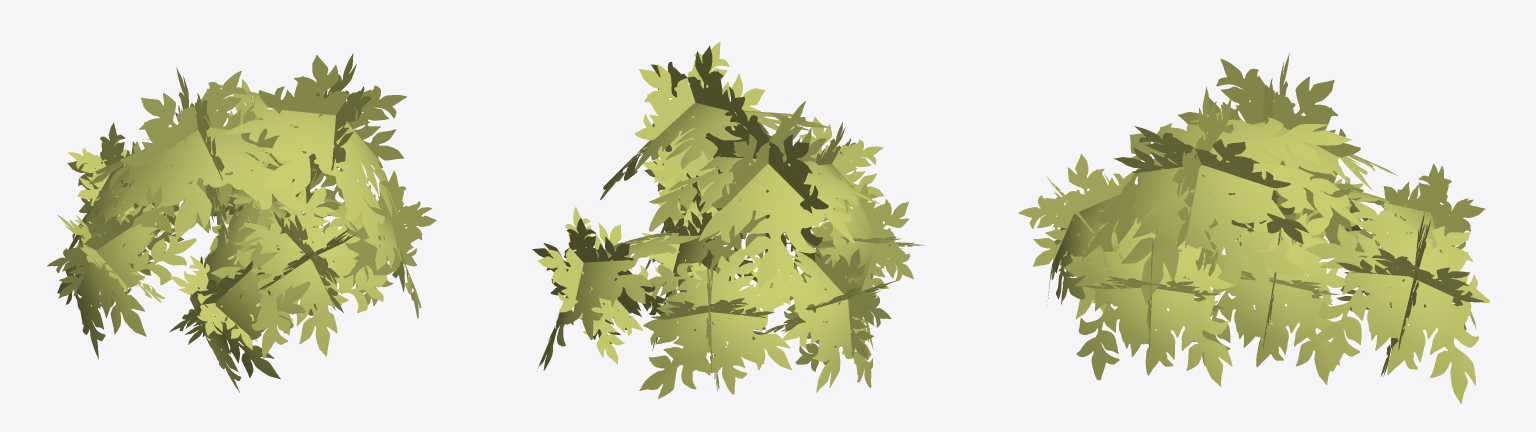
The model's file is treeTopLight.fbx.
3 views of the same model, side by side, from view 1: azimuth 30°, elevation 25°; view 2: azimuth 150°, elevation 25°; view 3: azimuth 270°, elevation 25° (orthographic). The views are drawn at different scales.
Parts seen in each view (by area): view 1: treeTopLight; view 2: treeTopLight; view 3: treeTopLight.
Boxes of the visible parts, left/top/right/bottom form: treeTopLight: left=47, top=53, right=436, bottom=392; treeTopLight: left=532, top=42, right=924, bottom=398; treeTopLight: left=1018, top=53, right=1489, bottom=403.
Bounding box in the file's own units: 663 × 578 × 748.
